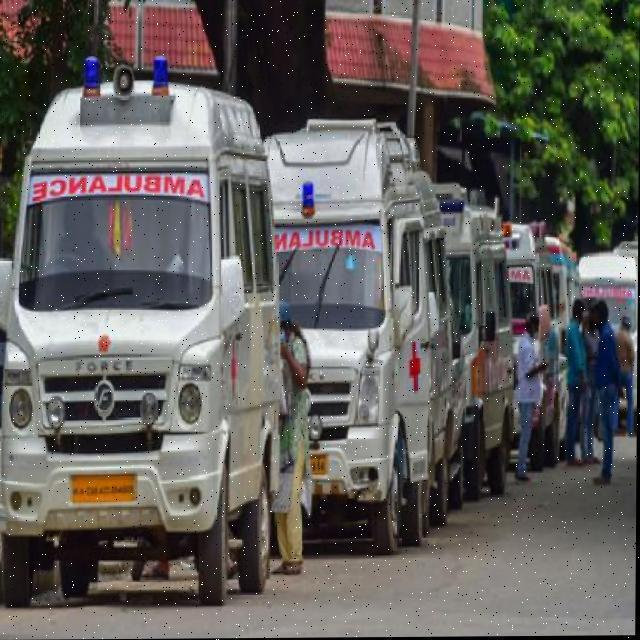Ambulance: (0, 49, 638, 615), (0, 53, 289, 612), (0, 392, 636, 638), (258, 114, 472, 558)
